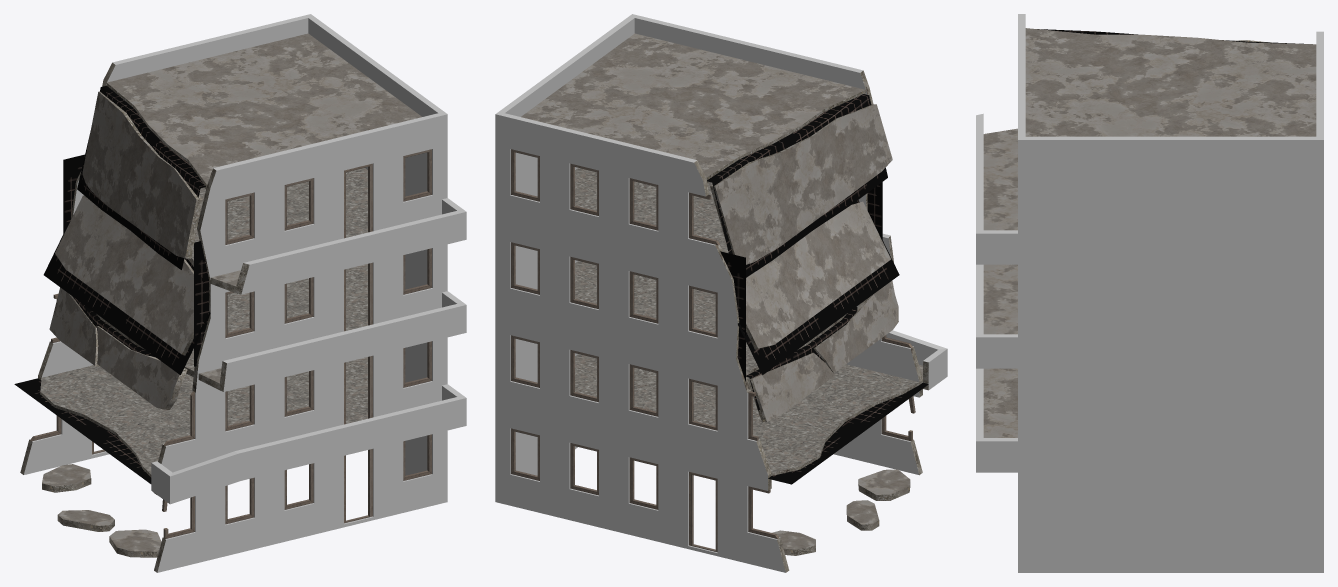
File: Building_K_Destroyed.fbx
3 renders of one model, left to right at view 1: azimuth 30°, elevation 25°; view 2: azimuth 150°, elevation 25°; view 3: azimuth 270°, elevation 25°, orthographic. The views are drawn at different scales.
Visible parts, largest first — view 1: Walls, Floors_Top, Floor_Bottom, Rebar, Windows, Broken_Concrete, Rubble; view 2: Walls, Floors_Top, Floor_Bottom, Rebar, Windows, Broken_Concrete, Rubble; view 3: Walls, Floors_Top, Floors_Balcony.
Boxes of the visible parts, x1,y1,x2,y2 form: Walls: [24, 14, 466, 572]; Floors_Top: [49, 33, 421, 409]; Floor_Bottom: [40, 168, 367, 474]; Rebar: [14, 85, 210, 483]; Windows: [30, 149, 431, 538]; Broken_Concrete: [20, 62, 249, 572]; Rubble: [42, 464, 161, 551]; Walls: [495, 14, 947, 572]; Floors_Top: [521, 33, 898, 421]; Floor_Bottom: [575, 168, 918, 472]; Rebar: [707, 94, 928, 484]; Windows: [511, 149, 915, 552]; Broken_Concrete: [694, 70, 928, 572]; Rubble: [772, 469, 910, 549]; Walls: [976, 14, 1323, 572]; Floors_Top: [1025, 28, 1316, 136]; Floors_Balcony: [983, 128, 1017, 437].
Size of the model in its own units: 1065 by 1250 by 910.
